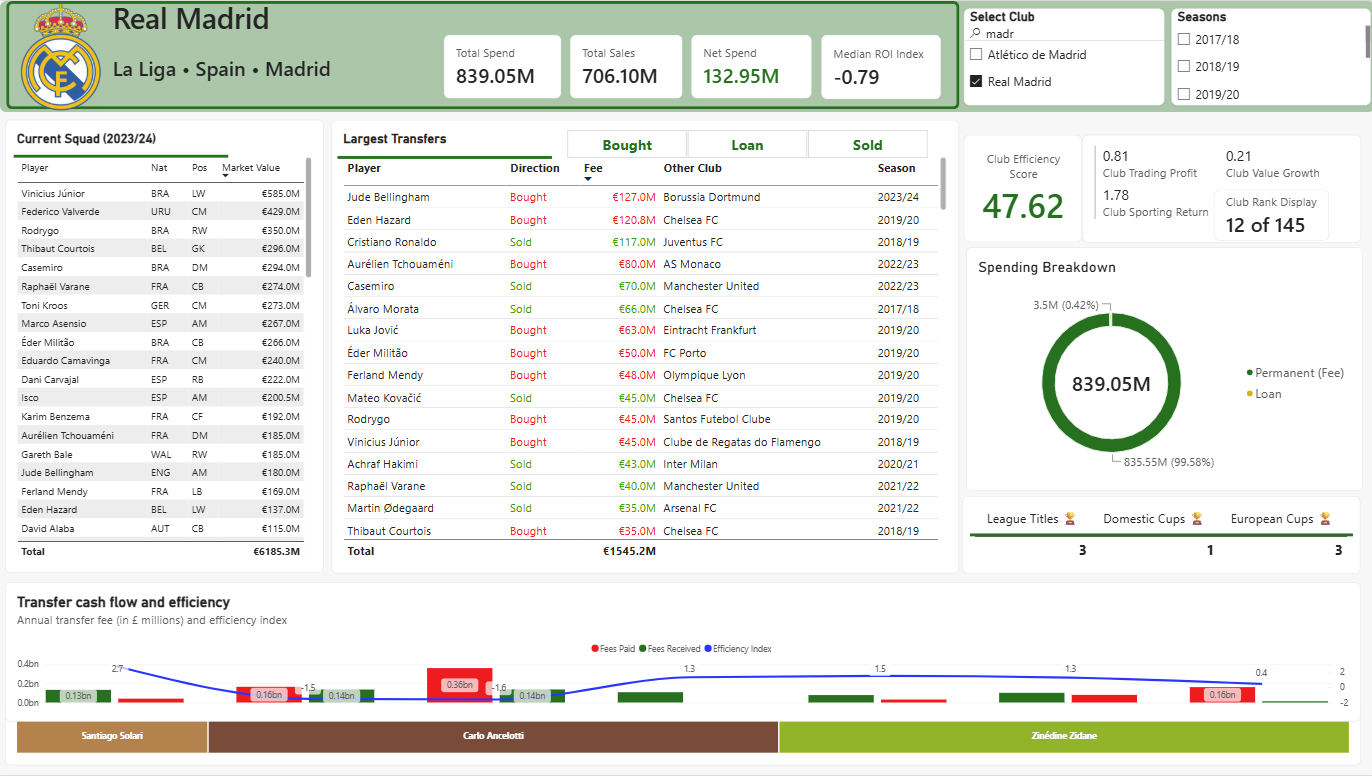

The dashboard page shown, as its layout file describes it:
{"tool":"powerbi","page":{"name":"Club Breakdown","canvas":[1920,1080],"ordinal":1},"visuals":[{"type":"barChart","fields":{"Series":["presentation vw_cashflow_and_tenure.manager_name"],"Y":["CountNonNull(presentation vw_cashflow_and_tenure.season)"]},"box":[7.5,978,1892.3,87.9],"z":0},{"type":"cardVisual","fields":{"Data":["Sum(presentation vw_current_squad.minutes)"]},"box":[0,0,1920,155.7],"z":1000},{"type":"cardVisual","fields":{"Data":["Sum(presentation vw_current_squad.minutes)"]},"box":[8.6,0,1330,151.4],"z":2000},{"type":"slicer","fields":{"Values":["DimClub.club_name"]},"box":[1345,10,280,135],"z":3000},{"type":"slicer","fields":{"Values":["presentation vw_current_squad.season"]},"box":[1635,10,280,135],"z":4000},{"type":"tableEx","fields":{"Values":["presentation vw_current_squad.player_name","presentation vw_current_squad.nationality_code","presentation vw_current_squad.position_short","presentation vw_current_squad.Market Value Millions"]},"box":[7.5,166.4,445,632],"z":5000},{"type":"cardVisual","fields":{"Data":["Sum(presentation vw_cashflow_and_tenure.fees_paid_eur)"]},"box":[620,47.1,164.6,89.8],"z":6000},{"type":"cardVisual","fields":{"Data":["Sum(presentation vw_cashflow_and_tenure.fees_received_eur)"]},"box":[795,47,157.1,89.8],"z":7000},{"type":"cardVisual","fields":{"Data":["Sum(presentation vw_cashflow_and_tenure.net_spend_eur)"]},"box":[965,47.1,168.3,89.8],"z":8000},{"type":"cardVisual","fields":{"Data":["presentation vw_cashflow_and_tenure.Club ROI Index"]},"box":[1145.7,47.1,167.1,90],"z":9000},{"type":"tableEx","title":"Largest Transfers","fields":{"Values":["presentation vw_transfers_detail.player_name","presentation vw_transfers_detail.direction","presentation vw_transfers_detail.Fee Millions","presentation vw_transfers_detail.other_club_name","presentation vw_transfers_detail.season"]},"box":[462.9,165.7,875.7,632.9],"z":10000},{"type":"cardVisual","fields":{"Data":["presentation vw_league_overview.Club Efficiency Score"]},"box":[1345.3,187.1,165.7,150],"z":11000},{"type":"multiRowCard","fields":{"Values":["presentation vw_league_overview.Club Trading Profit","presentation vw_league_overview.Club Value Growth","presentation vw_league_overview.Club Sporting Return"]},"box":[1510.6,187.1,388.6,150],"z":12000},{"type":"donutChart","title":"Spending Breakdown","fields":{"Category":["presentation vw_transfers_detail.Spend Type"],"Y":["Sum(presentation vw_transfers_detail.fee_eur)"]},"box":[1347.5,344,553.8,340],"z":13000},{"type":"tableEx","fields":{"Values":["Sum(presentation vw_club_trophies_honors.league_titles)","Sum(presentation vw_club_trophies_honors.domestic_cups)","Sum(presentation vw_club_trophies_honors.european_trophies)"]},"box":[1343.8,690,555,109],"z":14000},{"type":"lineClusteredColumnComboChart","title":"Transfer cash flow and efficiency","fields":{"Category":["presentation vw_cashflow_and_tenure.season"],"Y":["Sum(presentation vw_cashflow_and_tenure.fees_paid_eur)","Sum(presentation vw_cashflow_and_tenure.fees_received_eur)"],"Y2":["Sum(presentation vw_cashflow_and_tenure.efficiency_index)"]},"box":[7.5,811.5,1892,194],"z":15000},{"type":"image","box":[0,0,168.3,155.2],"z":16000},{"type":"cardVisual","fields":{"Data":["Min(presentation vw_league_overview.club_name)"]},"box":[142.1,0,613.3,46.7],"z":17000},{"type":"cardVisual","fields":{"Data":["presentation vw_league_overview.Club Subtitle"]},"box":[142.1,11.2,460,166.4],"z":18000},{"type":"shape","box":[471.2,200.1,299.2,35.5],"z":19000},{"type":"slicer","fields":{"Values":["presentation vw_transfers_detail.direction_filter"]},"box":[770.4,177.6,542.3,43],"z":20000},{"type":"shape","box":[18.9,198.9,299.2,35.5],"z":21000},{"type":"shape","box":[1353.8,729.3,534.8,31.8],"z":22000},{"type":"cardVisual","fields":{"Data":["presentation vw_league_overview.Club Rank Display"]},"box":[1694.3,262.8,161.7,71.7],"z":22001}]}

Visuals, with their boxes in screenshot pixels (x1, y1, x2, y2), scaled from the page's 1920x1080 canvas onto the 1372x776 screenshot:
barChart - presentation vw_cashflow_and_tenure.manager_name x CountNonNull(presentation vw_cashflow_and_tenure.season): 5,703,1358,766
cardVisual - Sum(presentation vw_current_squad.minutes): 0,0,1371,112
cardVisual - Sum(presentation vw_current_squad.minutes): 6,0,957,109
slicer - DimClub.club_name: 961,7,1161,104
slicer - presentation vw_current_squad.season: 1168,7,1368,104
tableEx - presentation vw_current_squad.player_name x presentation vw_current_squad.nationality_code: 5,120,323,574
cardVisual - Sum(presentation vw_cashflow_and_tenure.fees_paid_eur): 443,34,561,98
cardVisual - Sum(presentation vw_cashflow_and_tenure.fees_received_eur): 568,34,680,98
cardVisual - Sum(presentation vw_cashflow_and_tenure.net_spend_eur): 690,34,810,98
cardVisual - presentation vw_cashflow_and_tenure.Club ROI Index: 819,34,938,99
"Largest Transfers" tableEx: 331,119,957,574
cardVisual - presentation vw_league_overview.Club Efficiency Score: 961,134,1080,242
multiRowCard - presentation vw_league_overview.Club Trading Profit x presentation vw_league_overview.Club Value Growth: 1079,134,1357,242
"Spending Breakdown" donutChart: 963,247,1359,491
tableEx - Sum(presentation vw_club_trophies_honors.league_titles) x Sum(presentation vw_club_trophies_honors.domestic_cups): 960,496,1357,574
"Transfer cash flow and efficiency" lineClusteredColumnComboChart: 5,583,1357,722
image: 0,0,120,112
cardVisual - Min(presentation vw_league_overview.club_name): 102,0,540,34
cardVisual - presentation vw_league_overview.Club Subtitle: 102,8,430,128
shape: 337,144,551,169
slicer - presentation vw_transfers_detail.direction_filter: 551,128,938,159
shape: 14,143,227,168
shape: 967,524,1350,547
cardVisual - presentation vw_league_overview.Club Rank Display: 1211,189,1326,240
